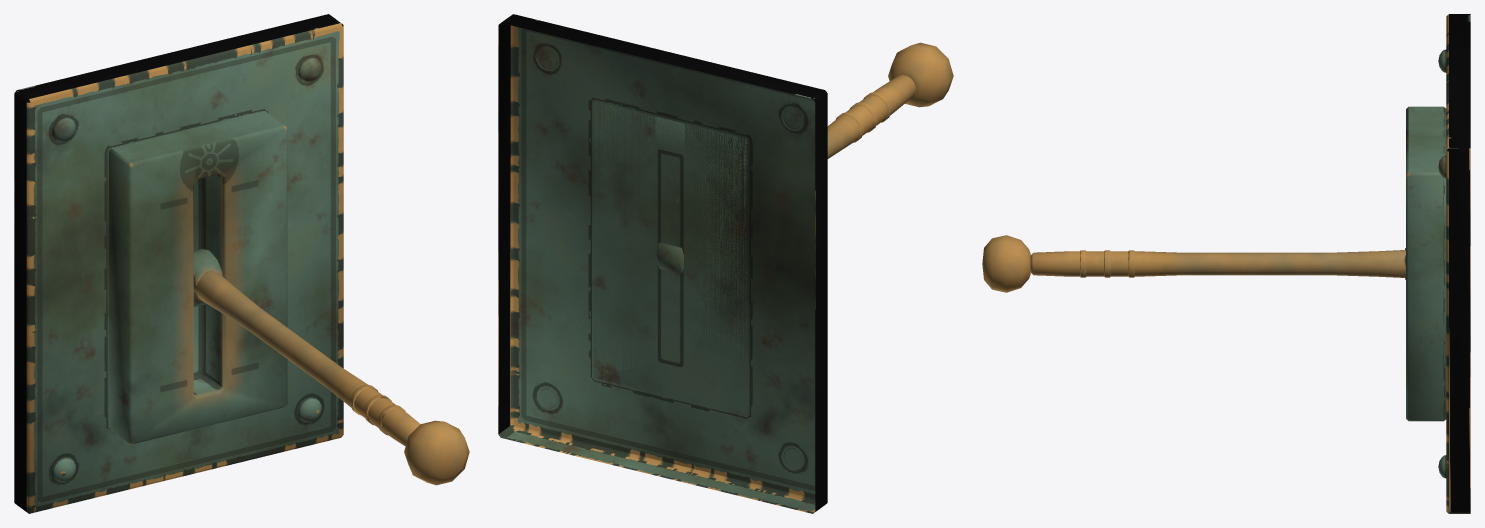
File: lever.glb
The picture shows the model from 3 angles, left to right: view 1: azimuth 30°, elevation 25°; view 2: azimuth 150°, elevation 25°; view 3: azimuth 270°, elevation 25°; orthographic projection. The views are drawn at different scales.
Parts seen in each view (by area): view 1: lever, handle; view 2: lever, handle; view 3: lever, handle.
Part boxes in pixels (<box>): lever: <box>14,14,343,513</box>; handle: <box>193,248,469,485</box>; lever: <box>498,14,827,513</box>; handle: <box>656,42,953,274</box>; lever: <box>1406,14,1470,513</box>; handle: <box>982,235,1405,292</box>.
Size of the model in its own units: 0.4 by 0.5 by 0.605.
1 material, 1 textured.
